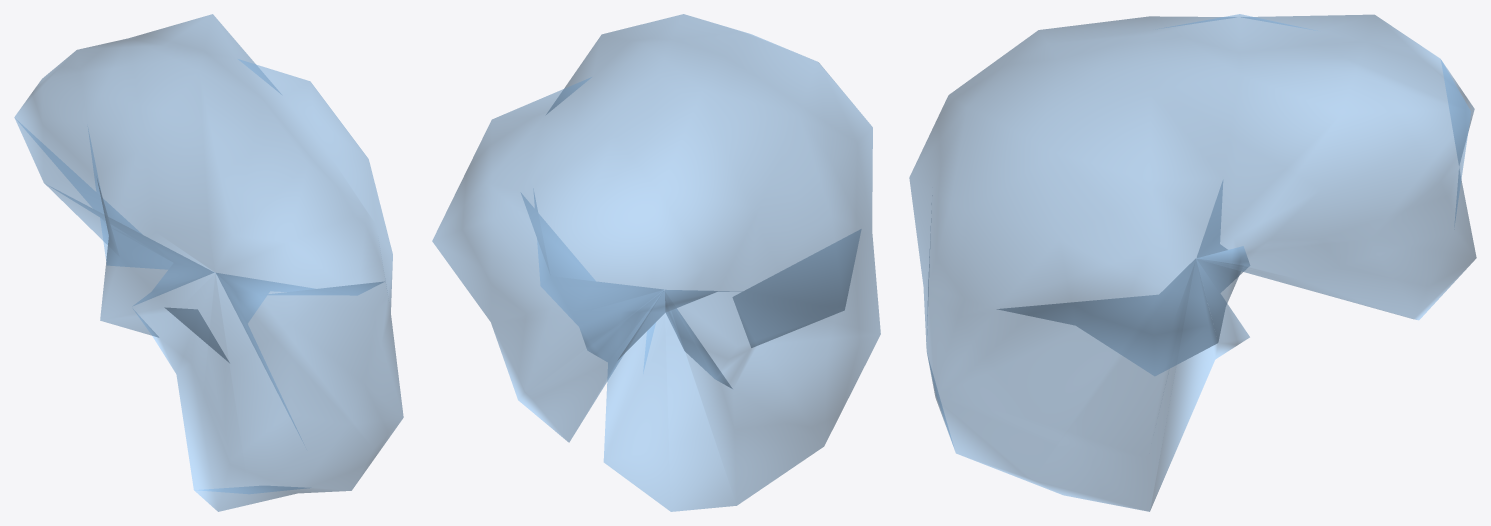
The model's file is mzorap_shield.gltf.
3 renders of one model, left to right at view 1: azimuth 30°, elevation 25°; view 2: azimuth 150°, elevation 25°; view 3: azimuth 270°, elevation 25°, orthographic. The views are drawn at different scales.
Parts seen in each view (by area): view 1: mzorap.shield; view 2: mzorap.shield; view 3: mzorap.shield.
Part boxes in pixels (left/top/right/bottom): mzorap.shield: left=14, top=14, right=403, bottom=511; mzorap.shield: left=432, top=14, right=880, bottom=511; mzorap.shield: left=909, top=14, right=1476, bottom=511.
Bounding box in the file's own units: 9.28 × 13.66 × 14.57.
